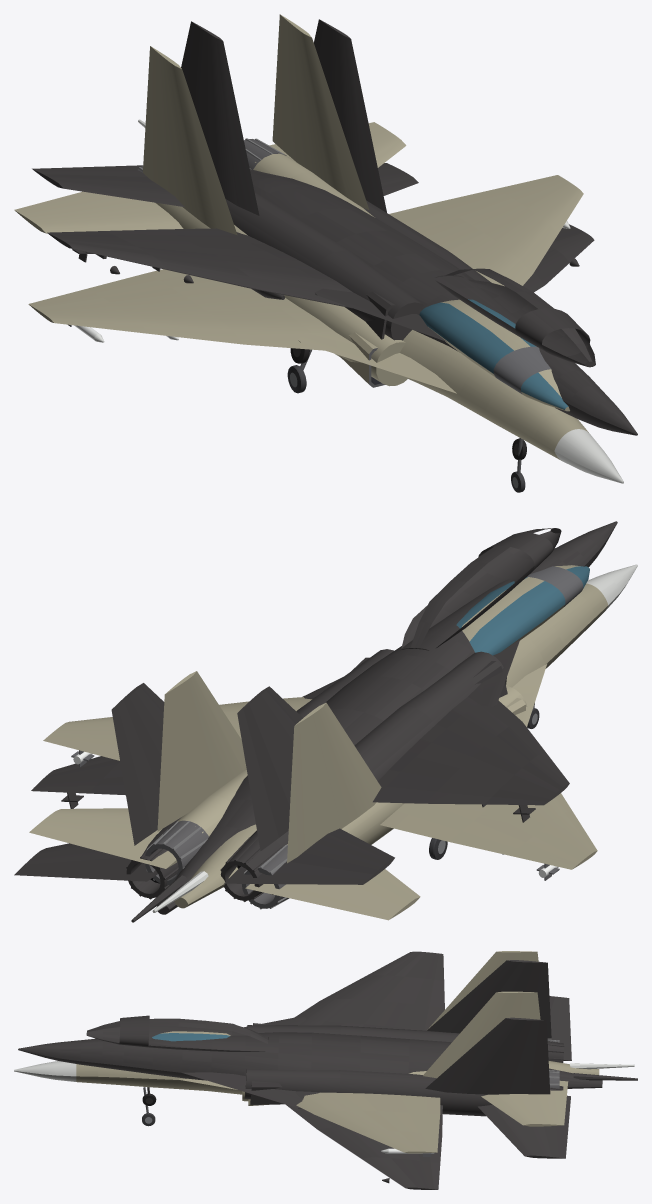
The model's file is jet__j_16.glb.
3 views of the same model, one above another, from view 1: azimuth 30°, elevation 25°; view 2: azimuth 150°, elevation 25°; view 3: azimuth 270°, elevation 25° (orthographic). The views are drawn at different scales.
Parts seen in each view (by area): view 1: Fuselage_Mesh, Wreck; view 2: Wreck, Fuselage_Mesh; view 3: Wreck, Fuselage_Mesh.
Part boxes in pixels (box(x1,y1,x2,y2)): Fuselage_Mesh: box(14, 14, 623, 492); Wreck: box(32, 19, 637, 459); Wreck: box(14, 521, 617, 922); Fuselage_Mesh: box(29, 564, 637, 920); Wreck: box(18, 951, 637, 1189); Fuselage_Mesh: box(14, 951, 634, 1156).
Size of what is drawn, in the model's own units: 15.03 by 6.63 by 23.38.
